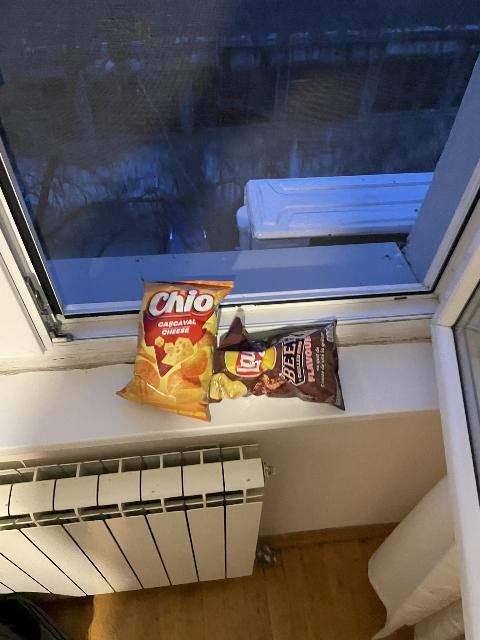Chio Cascaval 125g: (116, 277, 235, 419)
Lays Beef Grilled Ribs 125g: (211, 316, 341, 411)
